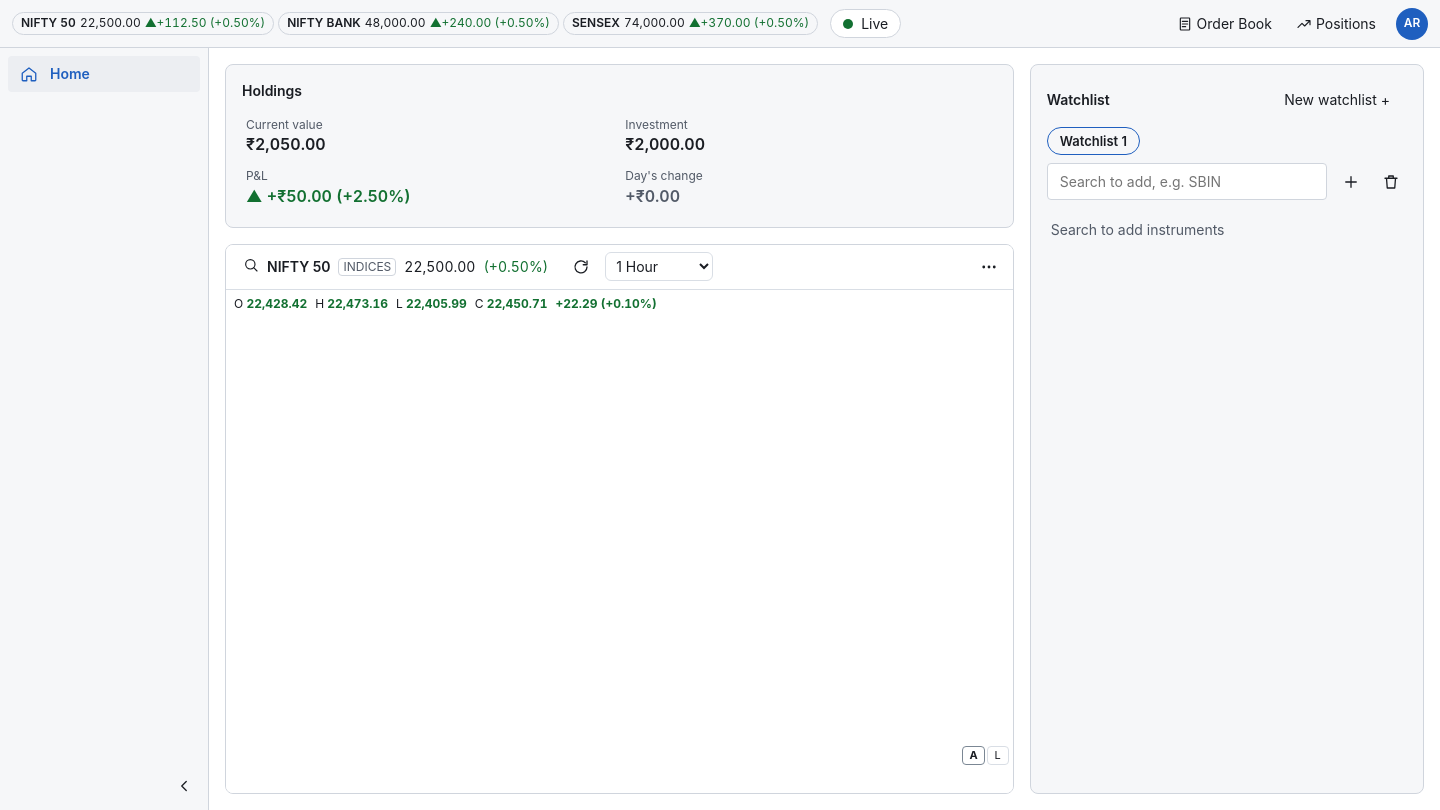
Test case: FR-SHELL-010 profile menu › AC3: shows the build version
Click the button named "Account menu".
click(1412, 24)  # box 1396,8 -> 1428,40
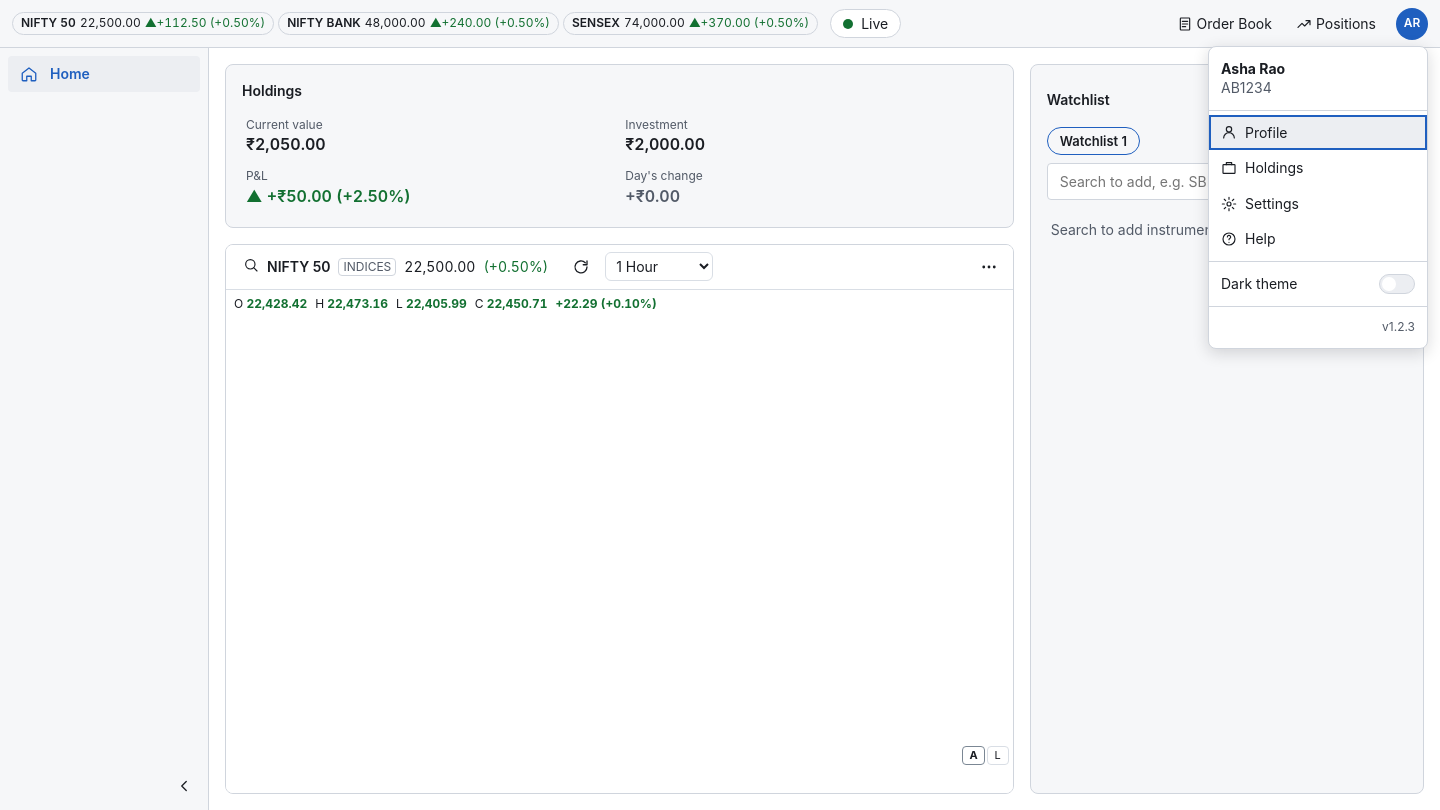
expect the text "v1.2.3" is shown: met, box 1382,319 -> 1415,334
